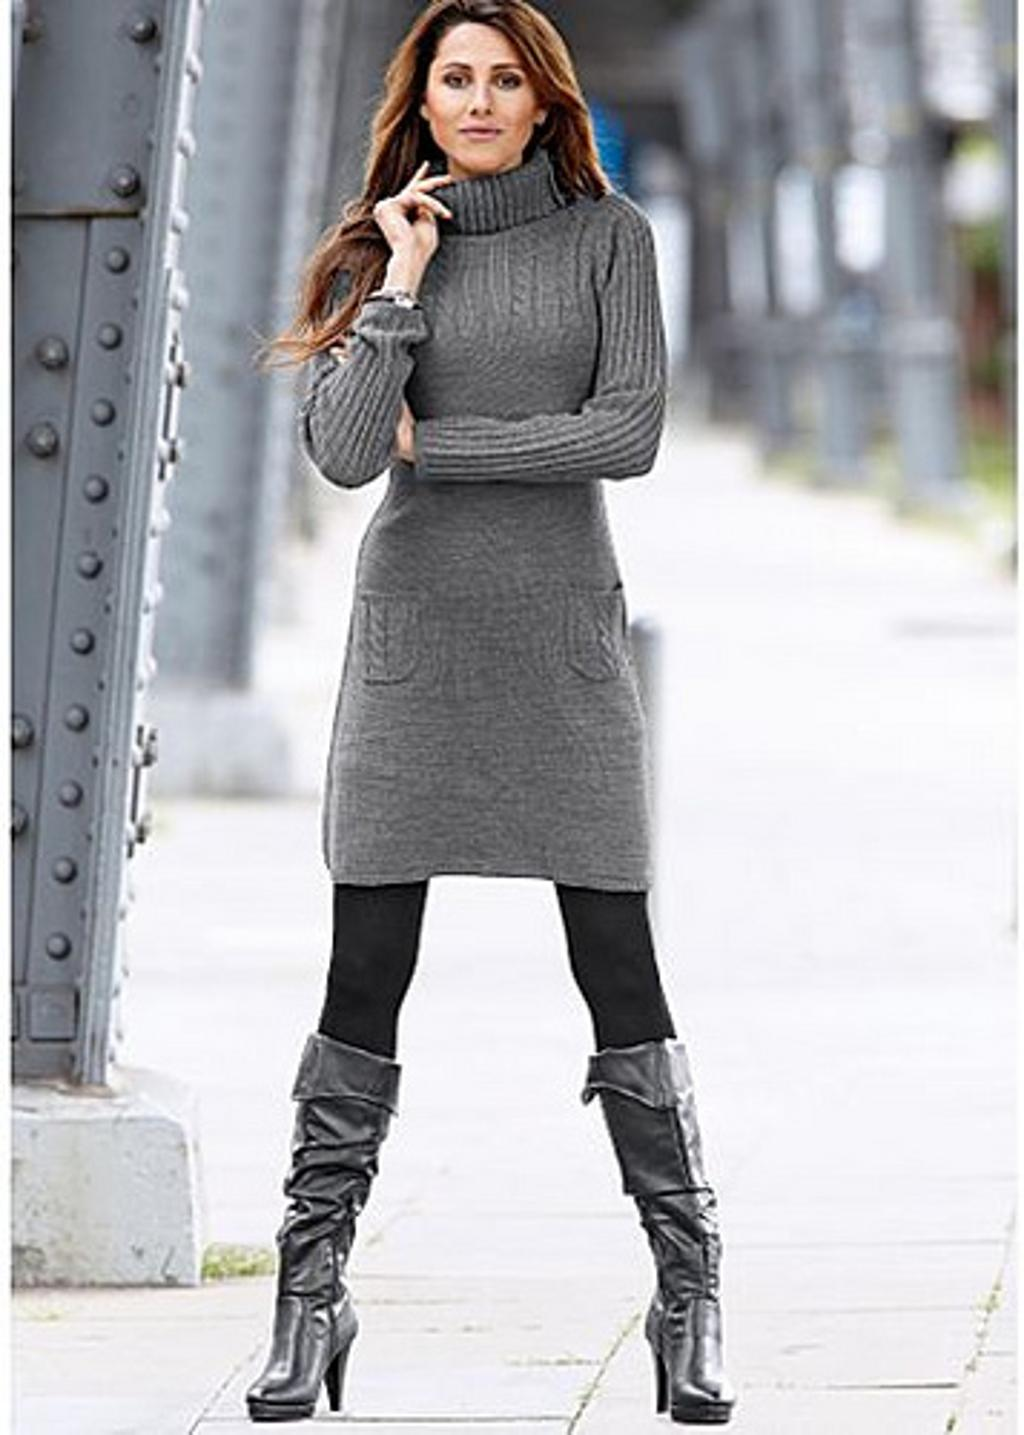face: (434, 31, 538, 160)
